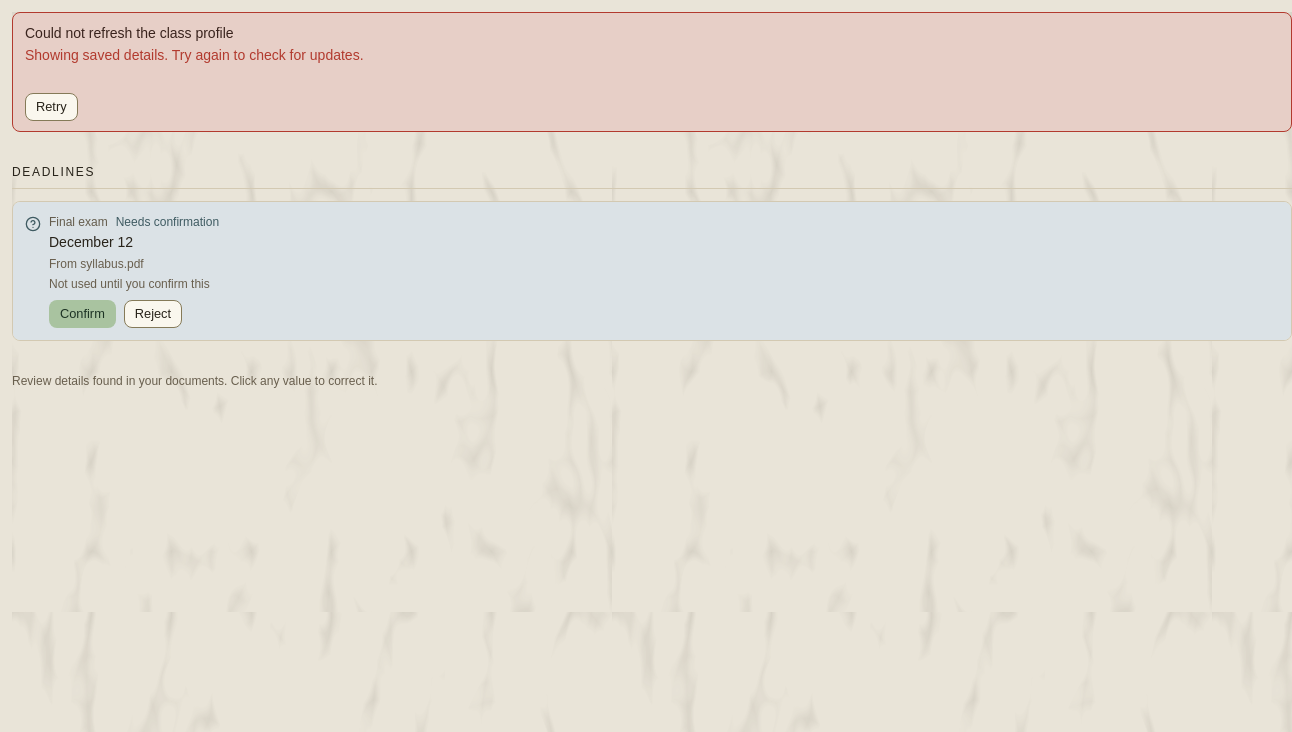
Test: profile recovery › keeps cached facts on refetch failure and clears the notice after retry
expect the text "Could not refresh the class profile" is shown: met, box [25,25,234,41]
expect the button "December 12" is enabled: met, box [49,232,1279,252]
Click the button "Retry" at (51, 107), box [25,93,78,121]
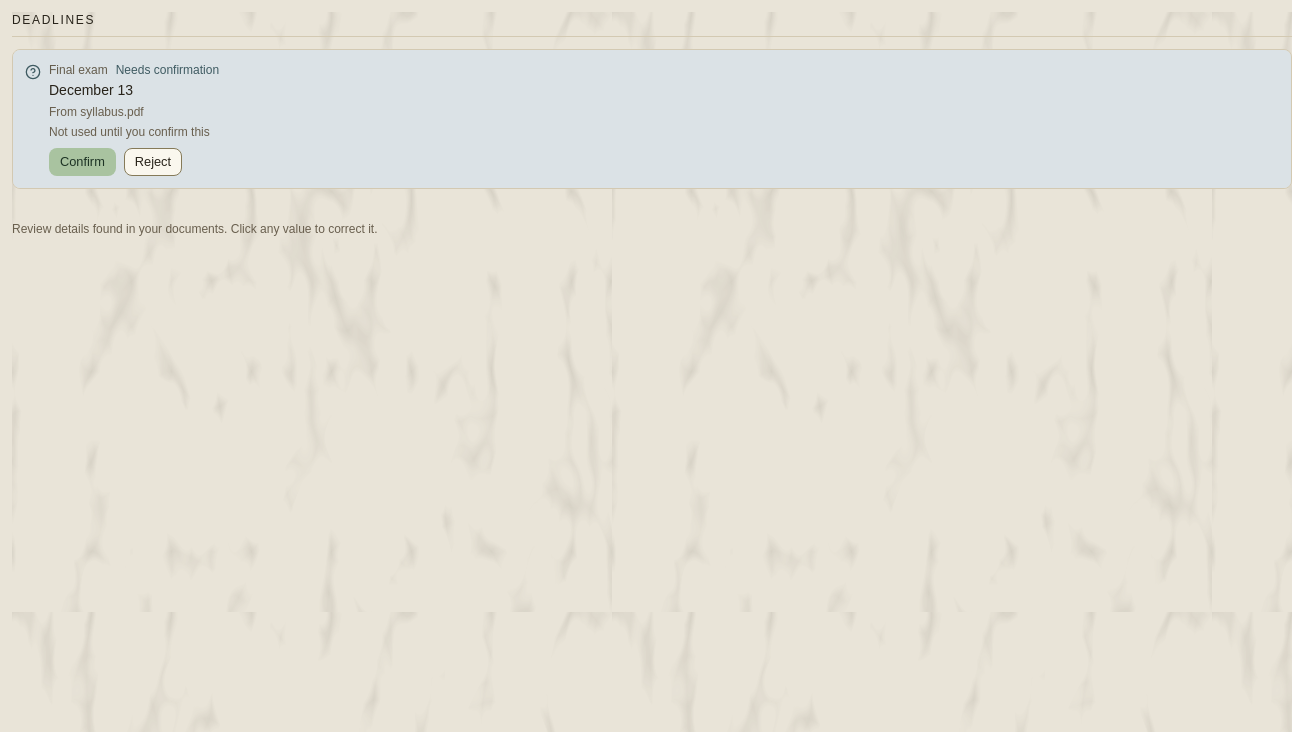
expect the button "December 13" is shown: met, box [49,80,1279,100]
expect the text "Could not refresh the class profile" is gone: met
